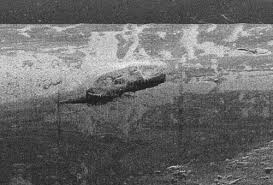ship: (72, 62, 171, 104)
